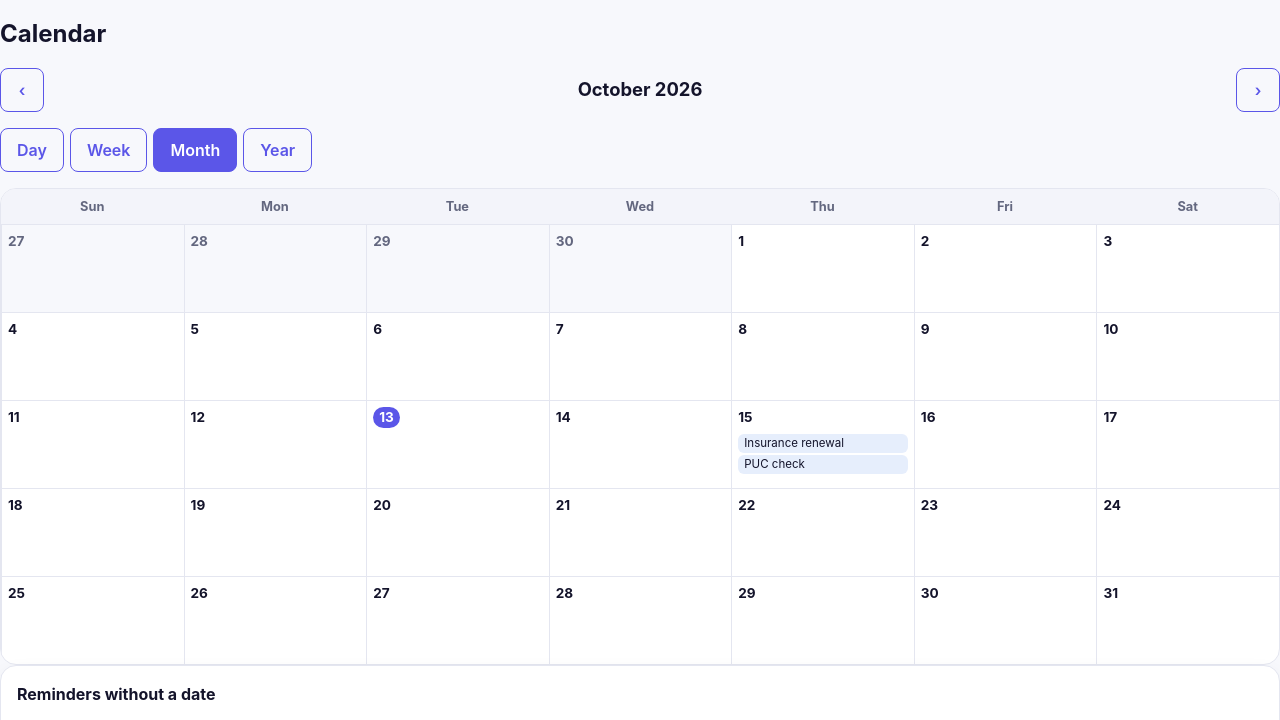
Test: Calendar views (Base design) › shows a day view for the anchor date
The image size is (1280, 720).
Click the button "Day". click: (32, 150)
box: [0, 128, 64, 172]
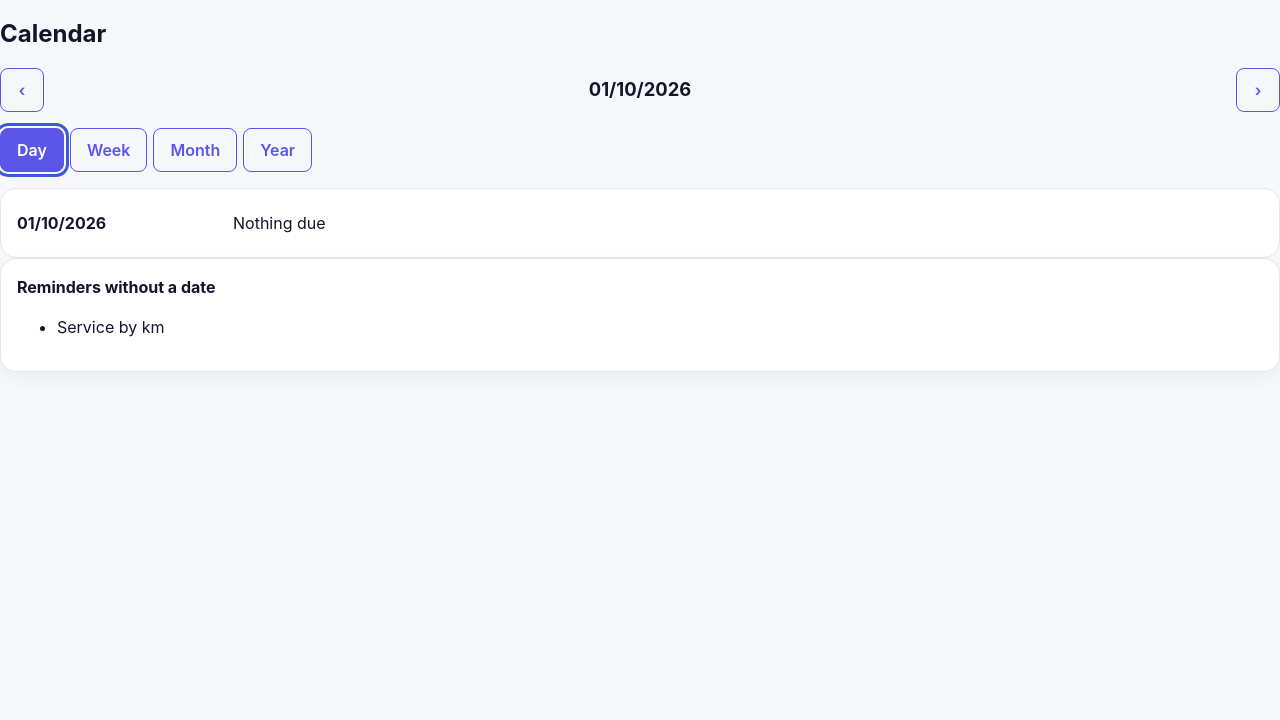
Result: the heading "01/10/2026" is shown at [589, 76, 691, 104]
Result: the text "Nothing due" is shown at [233, 213, 326, 233]
